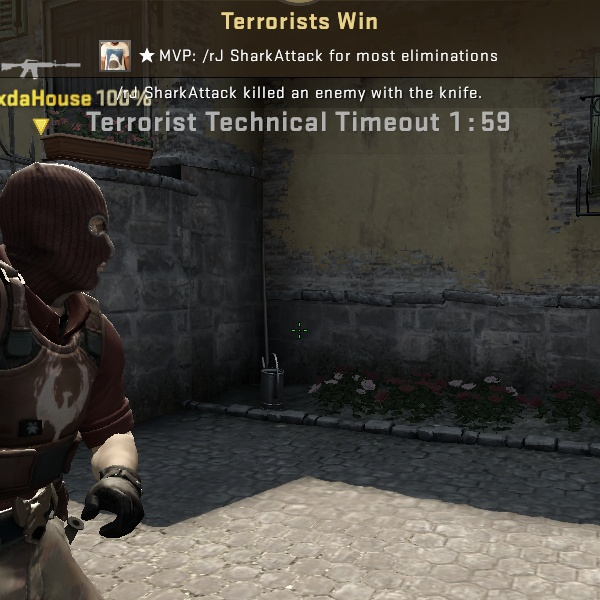t_body: (0, 149, 181, 600)
t_head: (0, 147, 143, 336)
